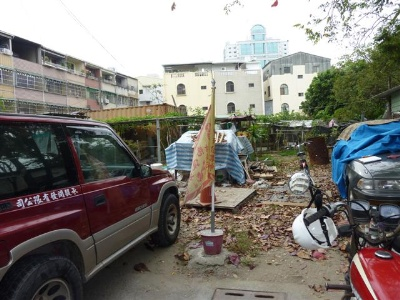plastic_bag: (332, 115, 400, 199), (165, 130, 257, 184)
